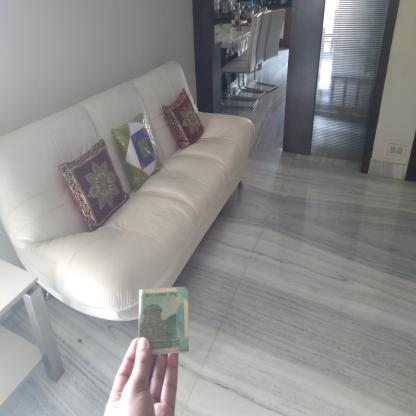New50Back: (138, 290, 188, 351)
